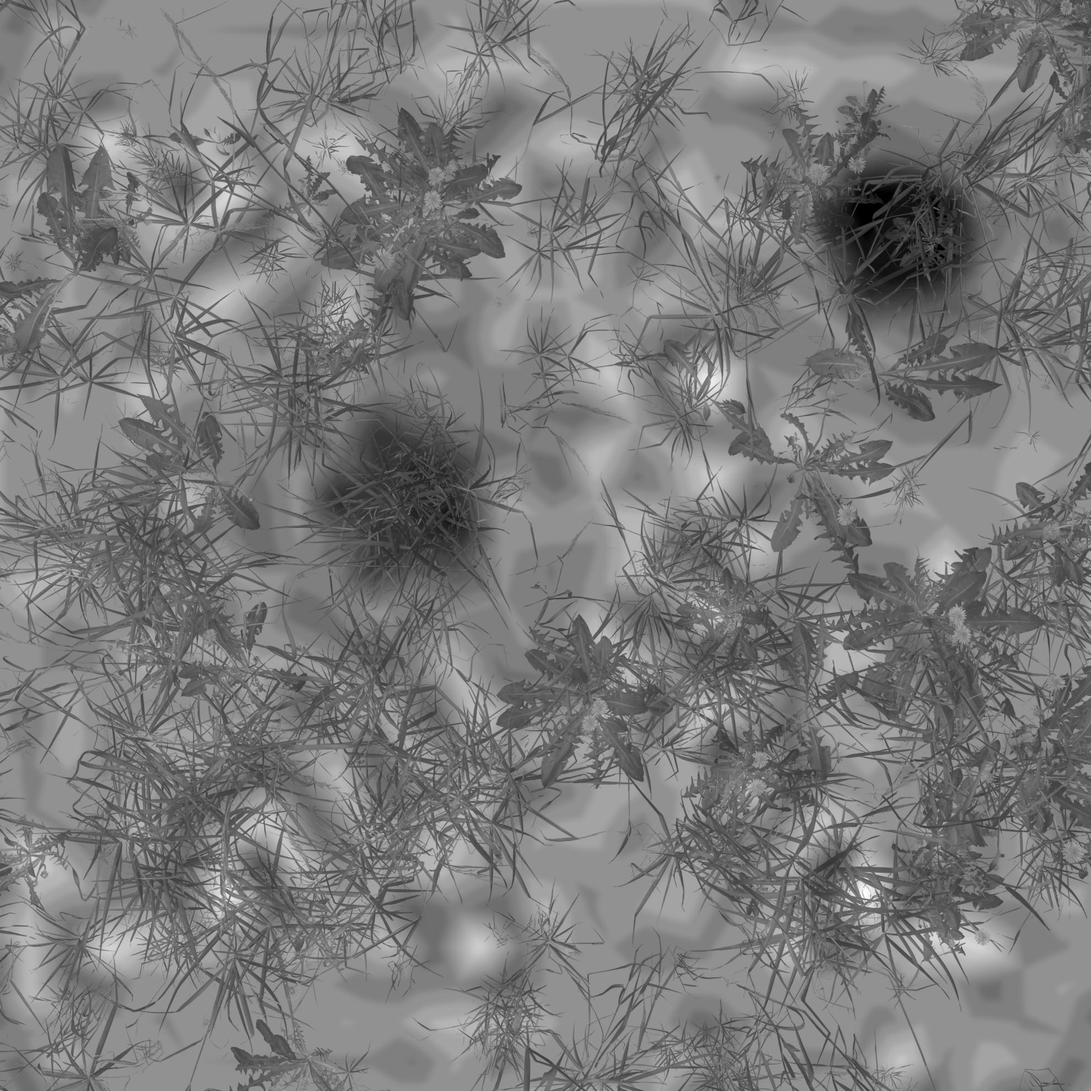landmine: (822, 158, 971, 300)
